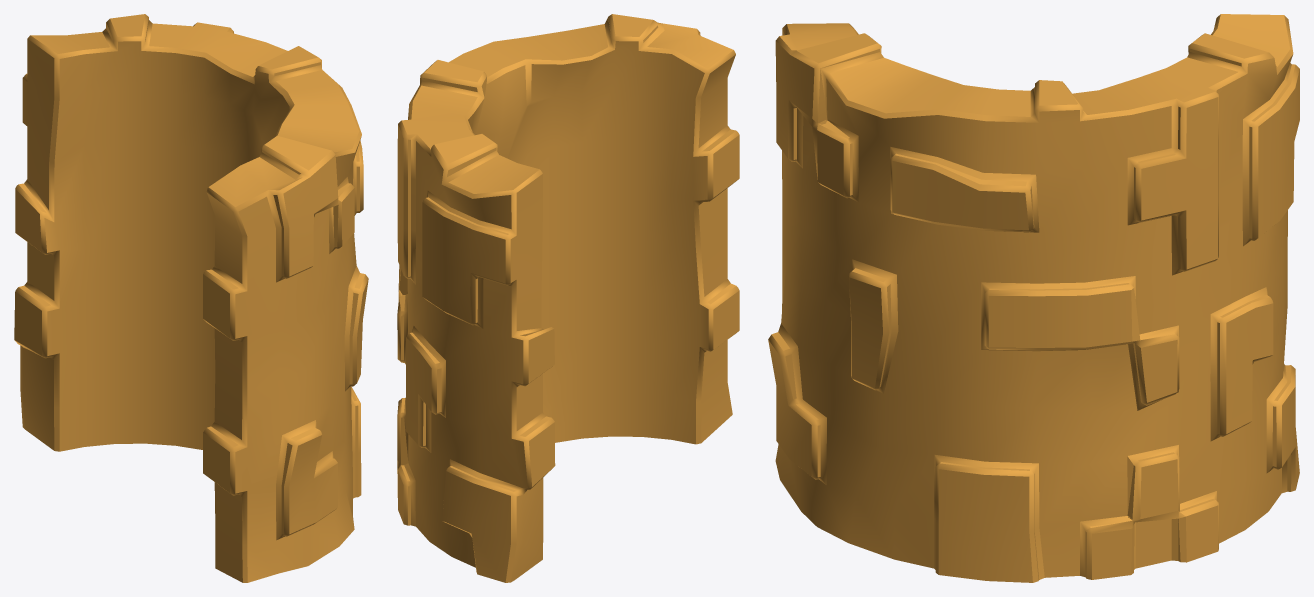
Rendered from SM_Castles_TowerCircle.fbx.
3 views of the same model, side by side, from view 1: azimuth 30°, elevation 25°; view 2: azimuth 150°, elevation 25°; view 3: azimuth 270°, elevation 25° (orthographic). The views are drawn at different scales.
Parts seen in each view (by area): view 1: Castle_TowerCircle; view 2: Castle_TowerCircle; view 3: Castle_TowerCircle.
Boxes of the visible parts, bbox=[...] form: Castle_TowerCircle: bbox=[14, 14, 368, 582]; Castle_TowerCircle: bbox=[397, 14, 739, 582]; Castle_TowerCircle: bbox=[768, 14, 1299, 582].
Size of the model in its own units: 327 by 579 by 594.
